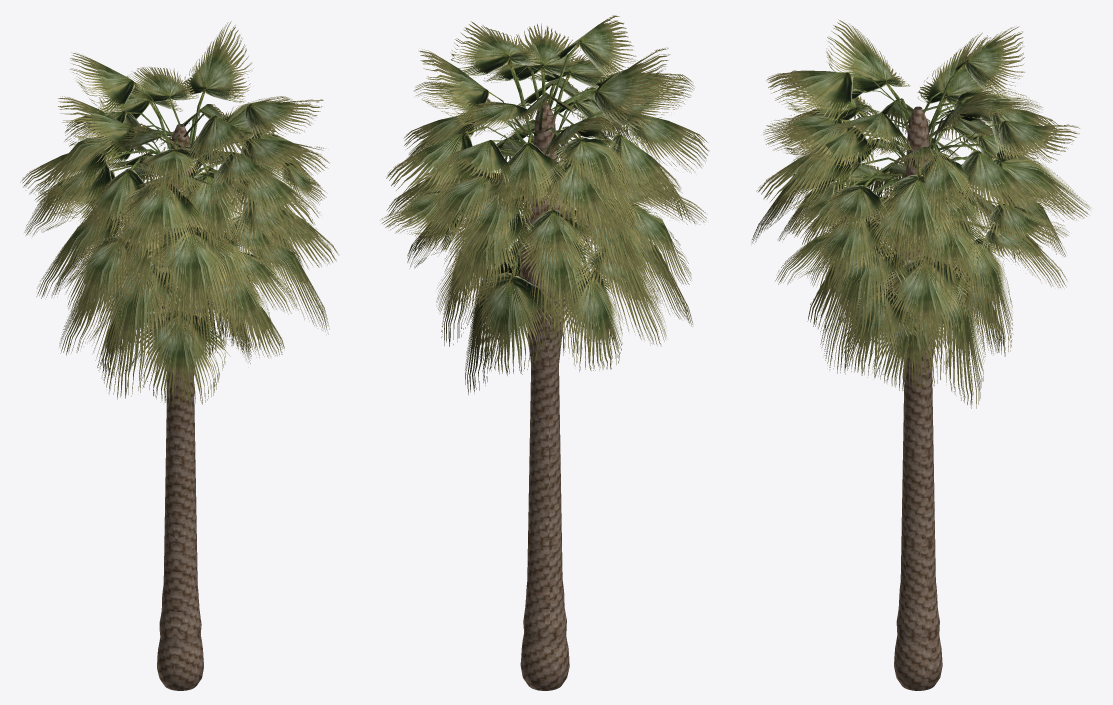
Rendered from palmetto_cabbage.glb.
The picture shows the model from 3 angles, left to right: view 1: azimuth 30°, elevation 25°; view 2: azimuth 150°, elevation 25°; view 3: azimuth 270°, elevation 25°; orthographic projection. The views are drawn at different scales.
Parts seen in each view (by area): view 1: PalmLeaf_PalmLeaf_0, PalmBark_PalmBark_0; view 2: PalmLeaf_PalmLeaf_0, PalmBark_PalmBark_0; view 3: PalmLeaf_PalmLeaf_0, PalmBark_PalmBark_0.
Part boxes in pixels (x1,y1,x2,y2): PalmLeaf_PalmLeaf_0: (20,21,338,407); PalmBark_PalmBark_0: (157,124,203,690); PalmLeaf_PalmLeaf_0: (381,15,709,394); PalmBark_PalmBark_0: (520,102,569,690); PalmLeaf_PalmLeaf_0: (752,19,1090,408); PalmBark_PalmBark_0: (893,106,942,690).
Size of the model in its own units: 4.31 by 9.27 by 4.64.
2 materials, 2 textured.
